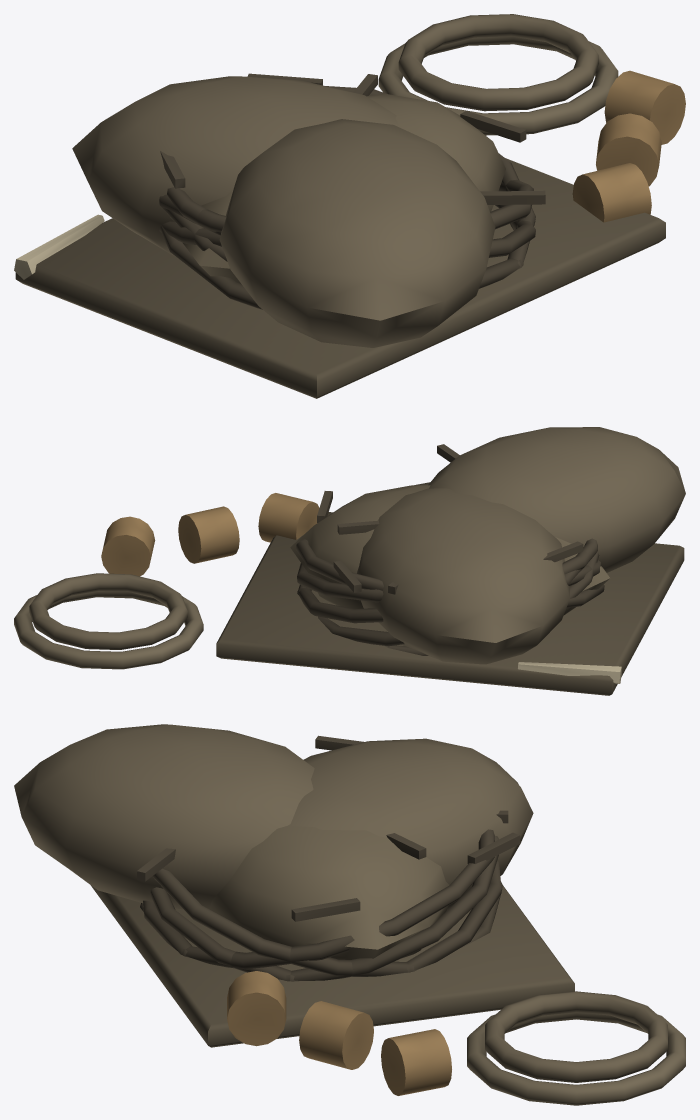
Rendered from net_bundle_a.glb.
3 views of the same model, one above another, from view 1: azimuth 30°, elevation 25°; view 2: azimuth 150°, elevation 25°; view 3: azimuth 270°, elevation 25° (orthographic). The views are drawn at different scales.
Visible parts, largest first — view 1: Surface; view 2: Surface; view 3: Surface.
Boxes of the visible parts, x1,y1,x2,y2 form: Surface: (14,14,685,398); Surface: (14,427,685,695); Surface: (14,724,685,1105).
Bounding box in the file's own units: 2.26 × 0.6053 × 2.1.
